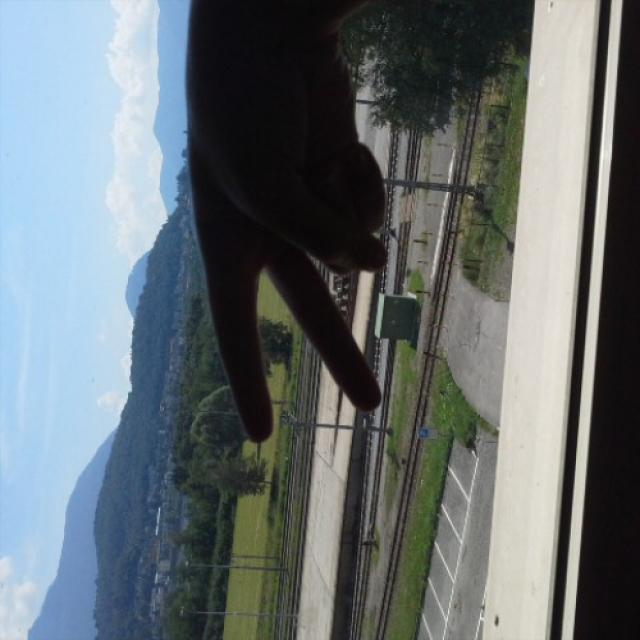scissors: (186, 89, 392, 436)
